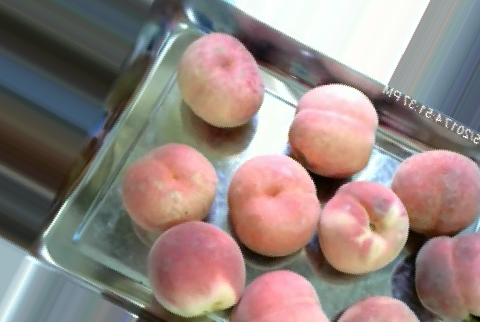Peach: (146, 219, 245, 318), (225, 155, 321, 254), (120, 142, 217, 231), (321, 182, 408, 271), (178, 33, 262, 125), (290, 83, 373, 175), (394, 150, 478, 237), (414, 233, 479, 321), (231, 266, 324, 322)
